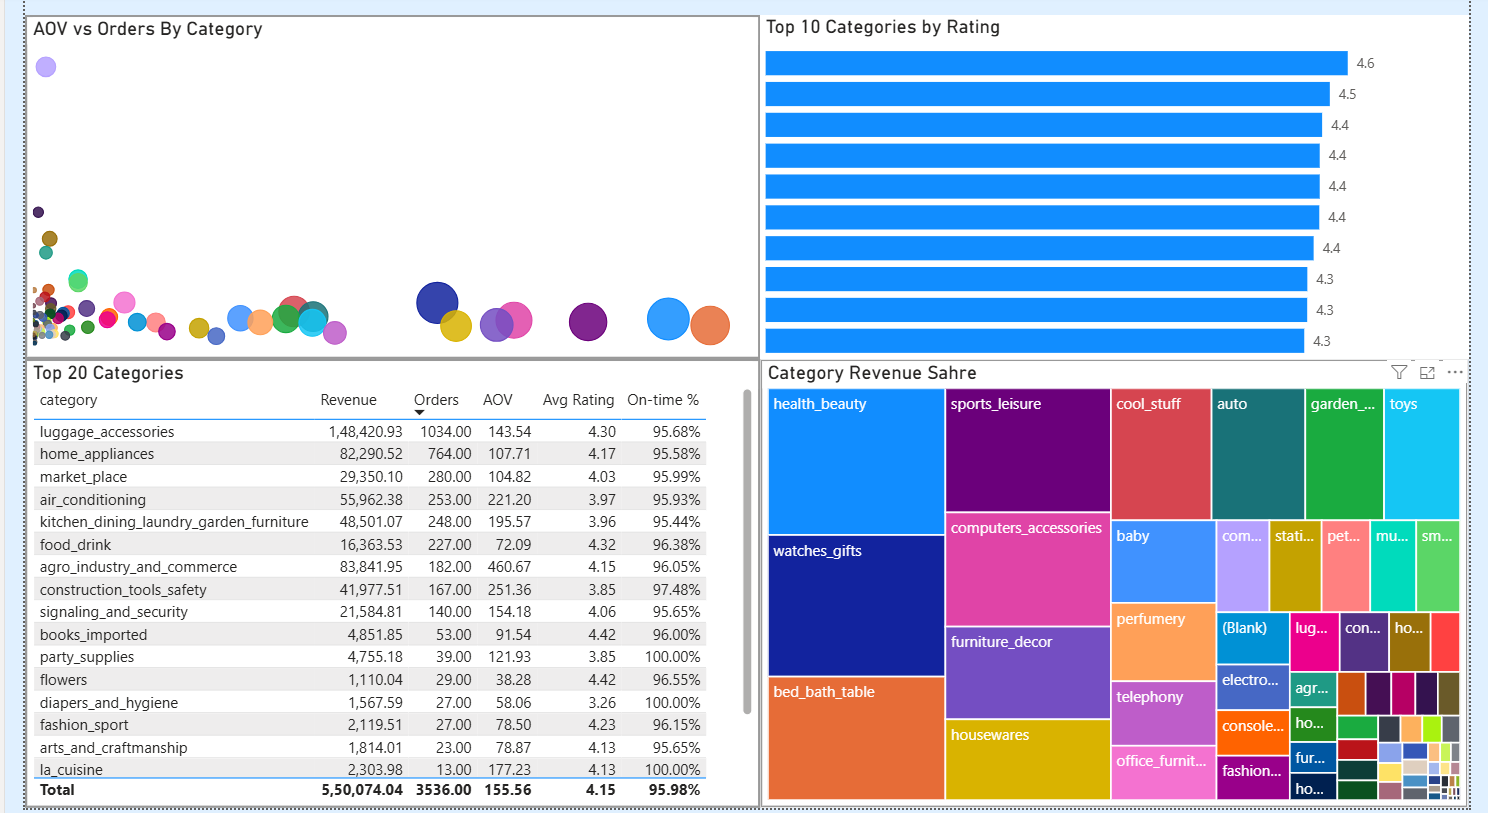

Layout of this report page (visuals, bound fields, positions):
{"tool":"powerbi","page":{"name":"Category and Product","canvas":[1280,720],"ordinal":2},"visuals":[{"type":"treemap","title":"Category Revenue Sahre","fields":{"Group":["public bi_fact_sales.category"],"Values":["public bi_fact_sales.Revenue"]},"box":[651.7,321.9,627.8,398.1],"z":0},{"type":"scatterChart","title":"AOV vs Orders By Category","fields":{"X":["public bi_fact_sales.Orders"],"Y":["public bi_fact_sales.AOV"],"Series":["public bi_fact_sales.category"],"Size":["public bi_fact_sales.Revenue"]},"box":[0,16.8,651.7,305],"z":1000},{"type":"barChart","title":"Top 10 Categories by Rating","fields":{"Category":["public bi_fact_sales.category"],"Y":["public bi_fact_sales.Avg Rating"]},"box":[651.7,16.8,628.7,305],"z":2000},{"type":"tableEx","title":"Top 20 Categories","fields":{"Values":["public bi_fact_sales.category","public bi_fact_sales.Revenue","public bi_fact_sales.Orders","public bi_fact_sales.AOV","public bi_fact_sales.Avg Rating","public bi_fact_sales.On-time %"]},"box":[0,322,651.8,397.8],"z":3000}]}

Visuals, with their boxes in screenshot pixels (x1, y1, x2, y2), scaled from the page's 1280x720 canvas onto the 1488x813 screenshot:
"Category Revenue Sahre" treemap: locate(758, 363, 1487, 812)
"AOV vs Orders By Category" scatterChart: locate(0, 19, 758, 363)
"Top 10 Categories by Rating" barChart: locate(758, 19, 1487, 363)
"Top 20 Categories" tableEx: locate(0, 364, 758, 812)
